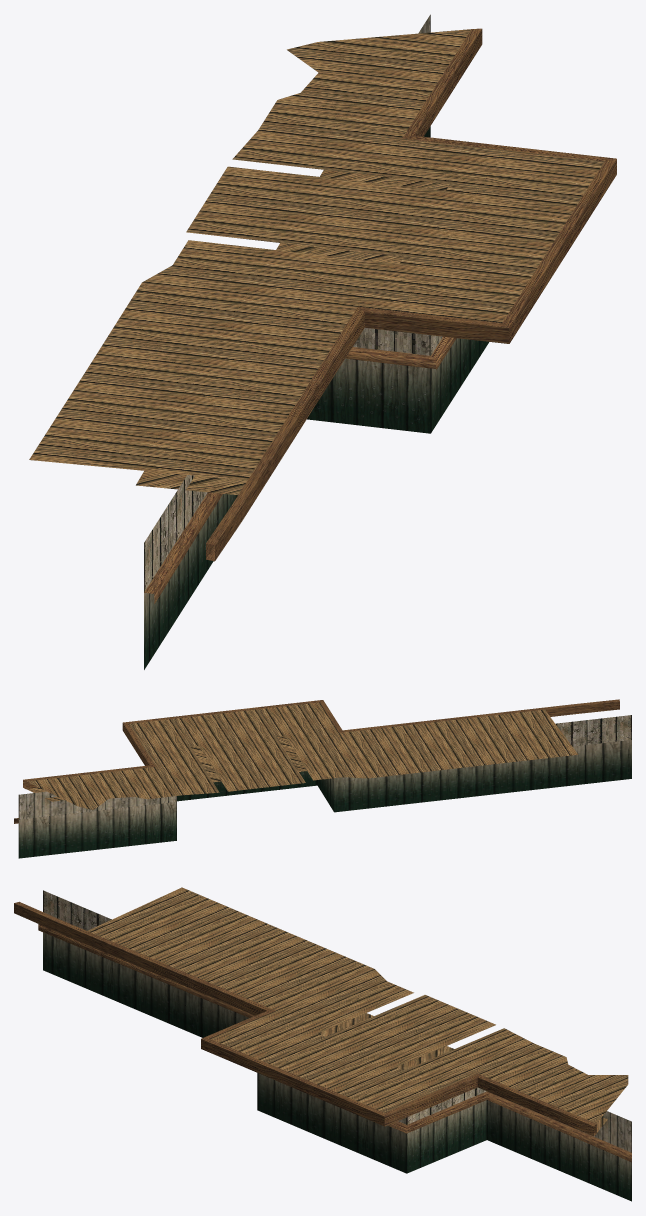
The model's file is LAKETOWN_EXTERIOR_PS_LT_PIERPARTS84847__GX.fbx.
3 renders of one model, top to bottom at view 1: azimuth 30°, elevation 25°; view 2: azimuth 150°, elevation 25°; view 3: azimuth 270°, elevation 25°, orthographic. The views are drawn at different scales.
Parts seen in each view (by area): view 1: LAKETOWN_EXTERIOR_PS_LT_PIERPARTS84847__GX; view 2: LAKETOWN_EXTERIOR_PS_LT_PIERPARTS84847__GX; view 3: LAKETOWN_EXTERIOR_PS_LT_PIERPARTS84847__GX.
Part boxes in pixels (x1=…): LAKETOWN_EXTERIOR_PS_LT_PIERPARTS84847__GX: x1=29, y1=14, x2=616, y2=669; LAKETOWN_EXTERIOR_PS_LT_PIERPARTS84847__GX: x1=14, y1=699, x2=631, y2=858; LAKETOWN_EXTERIOR_PS_LT_PIERPARTS84847__GX: x1=14, y1=887, x2=631, y2=1201.
Size of the model in its own units: 255078 by 40643 by 278605.
5 materials, 5 textured.
